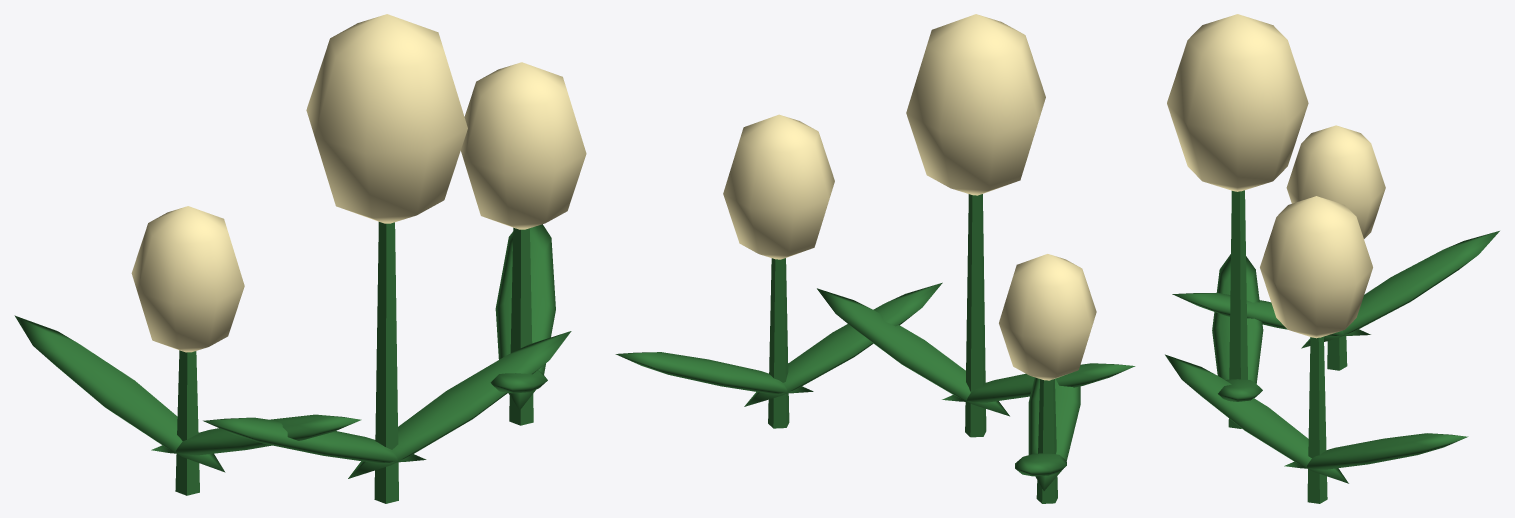
The picture shows the model from 3 angles, left to right: view 1: azimuth 30°, elevation 25°; view 2: azimuth 150°, elevation 25°; view 3: azimuth 270°, elevation 25°; orthographic projection. The views are drawn at different scales.
Parts seen in each view (by area): view 1: flower-bud-cream; view 2: flower-bud-cream; view 3: flower-bud-cream.
Boxes of the visible parts, x1,y1,x2,y2 form: flower-bud-cream: (14,14,586,503); flower-bud-cream: (615,14,1135,503); flower-bud-cream: (1165,14,1499,503).
Bounding box in the file's own units: 1.25 × 1.15 × 0.8529.
